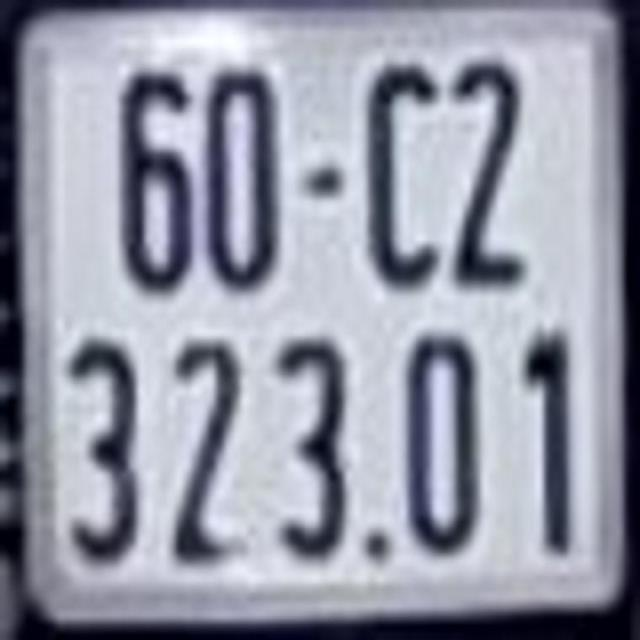0: (401, 324, 482, 558), (198, 59, 280, 290)
1: (516, 323, 584, 560)
2: (446, 56, 526, 291), (171, 337, 242, 562)
3: (270, 330, 350, 560), (64, 337, 140, 562)
6: (112, 63, 195, 292)
C: (360, 58, 444, 285)
